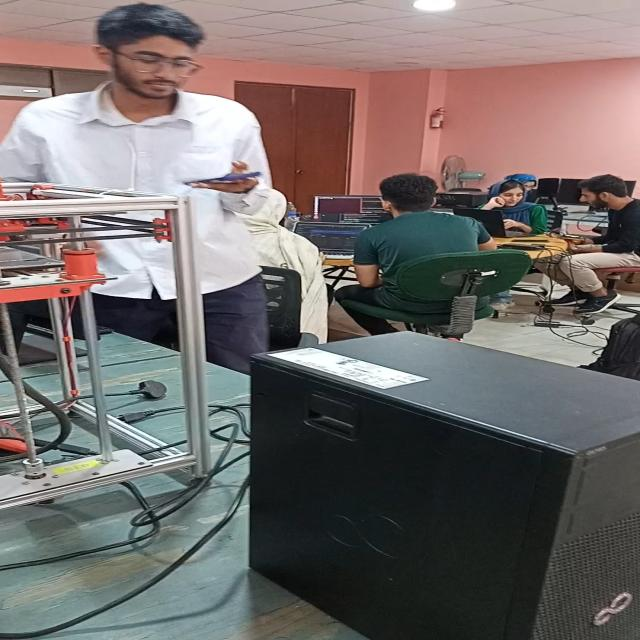dress: (5, 86, 256, 339)
